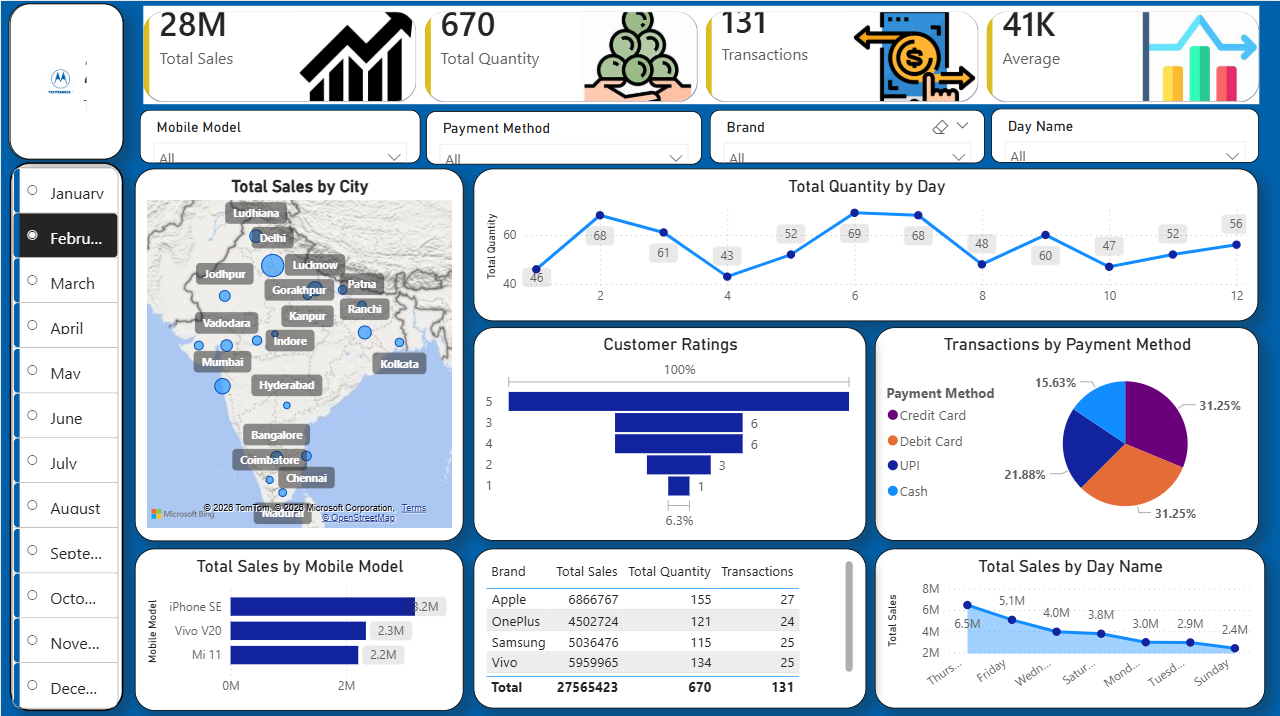

This screenshot's page, from the dashboard's own definition file:
{"tool":"powerbi","page":{"name":"Page 1","canvas":[1280,720],"ordinal":0},"visuals":[{"type":"shape","box":[8.8,161.2,113.8,548.8],"z":0},{"type":"shape","box":[7.5,2.5,115,156.2],"z":1000},{"type":"advancedSlicerVisual","fields":{"Values":["Sales_Data.Date.Variation.Date Hierarchy.Month"]},"box":[6.2,161.2,116.2,558.8],"z":2000},{"type":"cardVisual","fields":{"Data":["Sales_Data.Total Sales","Sales_Data.Total Quantity","Sales_Data.Transactions","Sales_Data.Average"]},"box":[138,0,1126,108],"z":3000},{"type":"map","fields":{"Category":["Sales_Data.City"],"Size":["Sales_Data.Total Sales"]},"box":[133.8,167.5,328.8,372.5],"z":4000},{"type":"lineChart","fields":{"Y":["Sales_Data.Total Quantity"],"Category":["Sales_Data.Date.Variation.Date Hierarchy.Month","Sales_Data.Date.Variation.Date Hierarchy.Day"]},"box":[472.5,167.5,785,152.5],"z":5000},{"type":"clusteredBarChart","fields":{"Category":["Sales_Data.Mobile Model"],"Y":["Sales_Data.Total Sales"]},"box":[133.8,547.5,328.8,162.5],"z":6000},{"type":"pieChart","fields":{"Category":["Sales_Data.Payment Method"],"Y":["Sales_Data.Transactions"]},"box":[873.8,326.2,383.8,213.8],"z":7000},{"type":"funnel","title":"Customer Ratings","fields":{"Category":["Sales_Data.Customer Ratings"],"Y":["CountNonNull(Sales_Data.Customer Ratings)"]},"box":[472.5,326.2,392.5,213.8],"z":8000},{"type":"areaChart","fields":{"Category":["Sales_Data.Day Name"],"Y":["Sales_Data.Total Sales"]},"box":[873.8,547.5,390,160],"z":9000},{"type":"tableEx","fields":{"Values":["Sales_Data.Brand","Sales_Data.Total Sales","Sales_Data.Total Quantity","Sales_Data.Transactions"]},"box":[472.5,547.5,392.5,160],"z":10000},{"type":"slicer","fields":{"Values":["Sales_Data.Mobile Model"]},"box":[138.2,108.2,280.9,53.6],"z":11000},{"type":"slicer","fields":{"Values":["Sales_Data.Payment Method"]},"box":[425.5,110,276.4,53.6],"z":12000},{"type":"slicer","fields":{"Values":["Sales_Data.Brand"]},"box":[708.2,108.2,275.5,53.6],"z":13000},{"type":"slicer","fields":{"Values":["Sales_Data.Day Name"]},"box":[990,108,268,54],"z":14000}]}

Visuals, with their boxes in screenshot pixels (x1, y1, x2, y2), scaled from the page's 1280x720 canvas onto the 1280x716 screenshot:
shape: (9, 160, 123, 706)
shape: (8, 2, 122, 158)
advancedSlicerVisual - Sales_Data.Date.Variation.Date Hierarchy.Month: (6, 160, 122, 715)
cardVisual - Sales_Data.Total Sales x Sales_Data.Total Quantity: (138, 0, 1264, 107)
map - Sales_Data.City x Sales_Data.Total Sales: (134, 167, 463, 537)
lineChart - Sales_Data.Total Quantity x Sales_Data.Date.Variation.Date Hierarchy.Month: (472, 167, 1258, 318)
clusteredBarChart - Sales_Data.Mobile Model x Sales_Data.Total Sales: (134, 544, 463, 706)
pieChart - Sales_Data.Payment Method x Sales_Data.Transactions: (874, 324, 1258, 537)
"Customer Ratings" funnel: (472, 324, 865, 537)
areaChart - Sales_Data.Day Name x Sales_Data.Total Sales: (874, 544, 1264, 704)
tableEx - Sales_Data.Brand x Sales_Data.Total Sales: (472, 544, 865, 704)
slicer - Sales_Data.Mobile Model: (138, 108, 419, 161)
slicer - Sales_Data.Payment Method: (426, 109, 702, 163)
slicer - Sales_Data.Brand: (708, 108, 984, 161)
slicer - Sales_Data.Day Name: (990, 107, 1258, 161)
